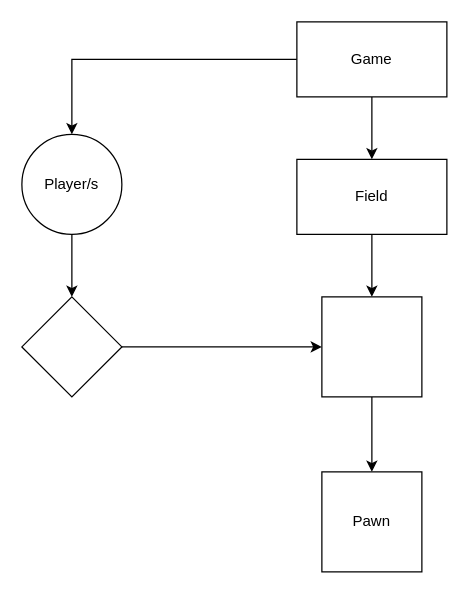
Some shapes in this 469 by 594 pixel diagram are drawn without their labels. Here are the shapes that lost their labels. From the top down, the centre of each, then its label:
point 71,346: Ship cell
point 371,346: Cell
